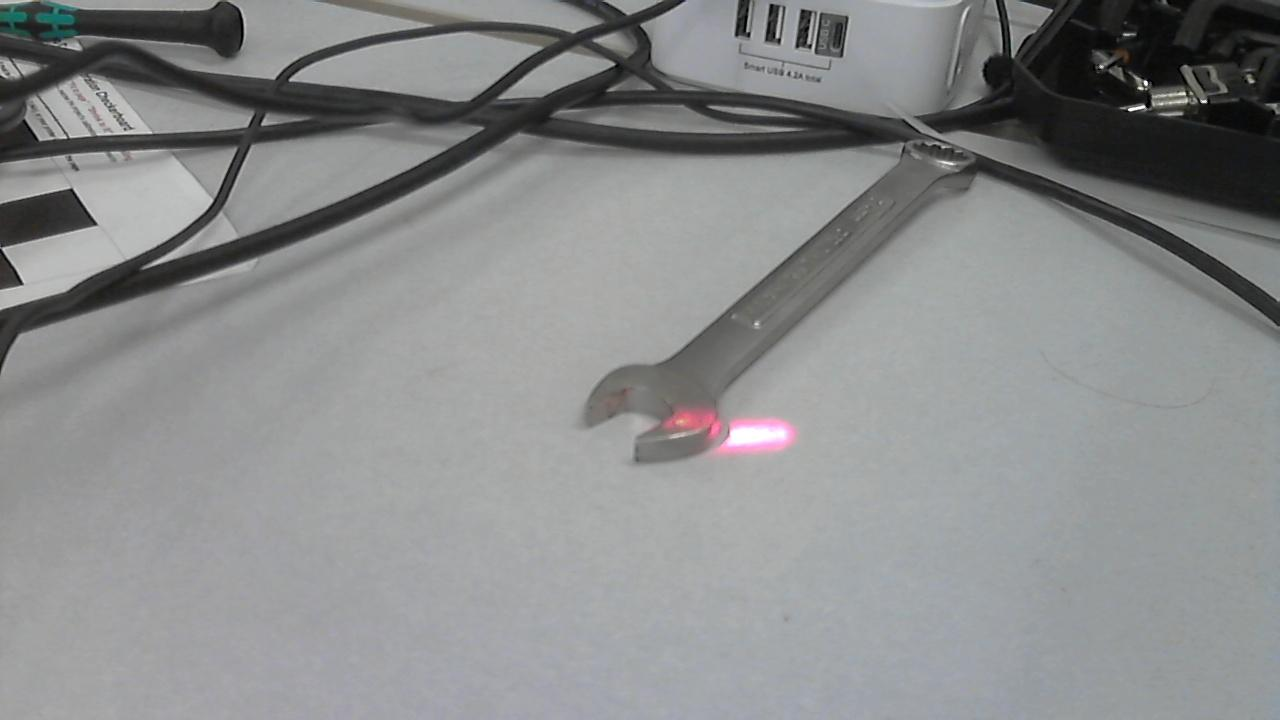Object combination wrench - Material metal- Pdfname faefasdffdaea: (660, 404, 718, 437)
